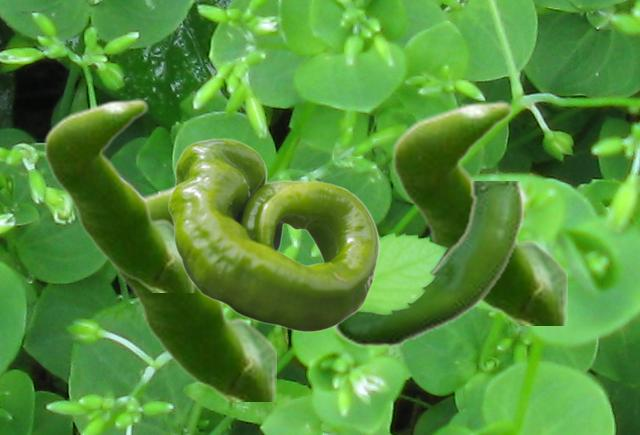green_chili: (168, 138, 378, 331), (391, 100, 566, 324), (105, 181, 275, 400), (332, 181, 522, 348), (43, 98, 194, 291)
